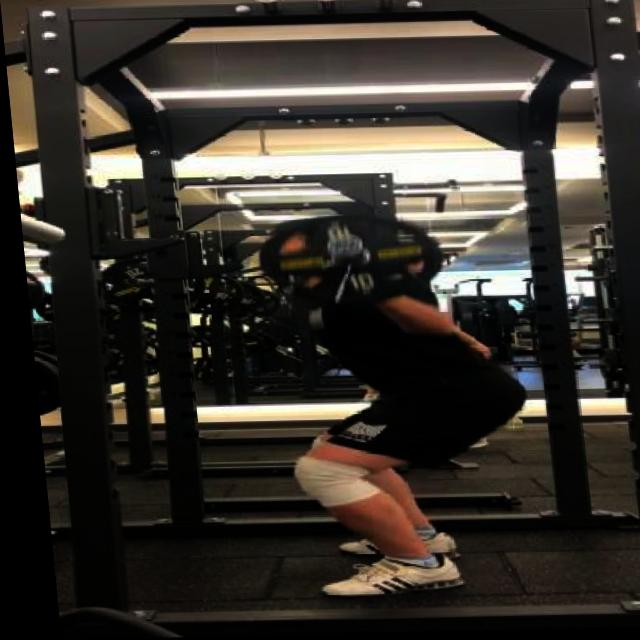barbell: (244, 211, 444, 314)
